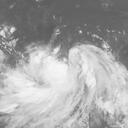cyclone: (22, 42, 116, 112)
